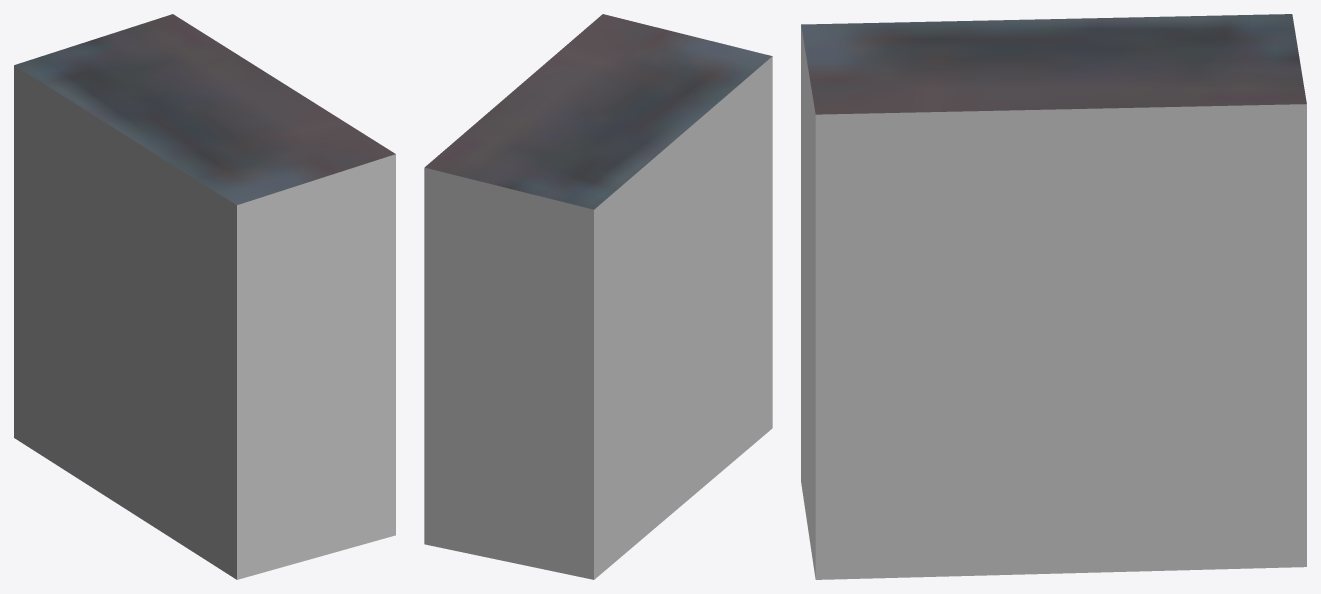
The model's file is DEBW_0010007THYu.gltf.
3 renders of one model, left to right at view 1: azimuth 30°, elevation 25°; view 2: azimuth 150°, elevation 25°; view 3: azimuth 270°, elevation 25°, orthographic. The views are drawn at different scales.
Parts seen in each view (by area): view 1: Z_UP; view 2: Z_UP; view 3: Z_UP.
Part boxes in pixels (box(x1,y1,x2,y2)): Z_UP: box(14, 14, 395, 579); Z_UP: box(424, 14, 772, 579); Z_UP: box(801, 14, 1306, 579).
Bounding box in the file's own units: 1.98 × 3.87 × 3.81.
2 materials, 1 textured.
